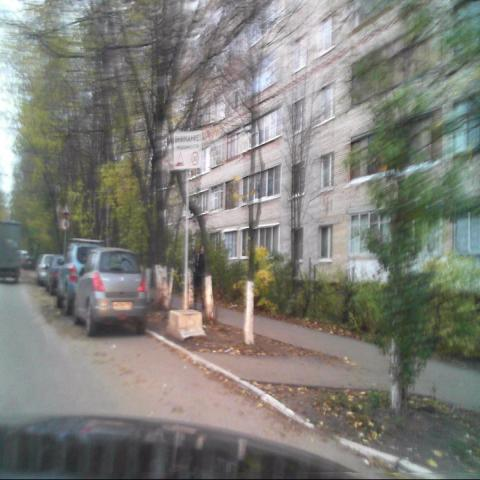1_16: (62, 200, 70, 216)
